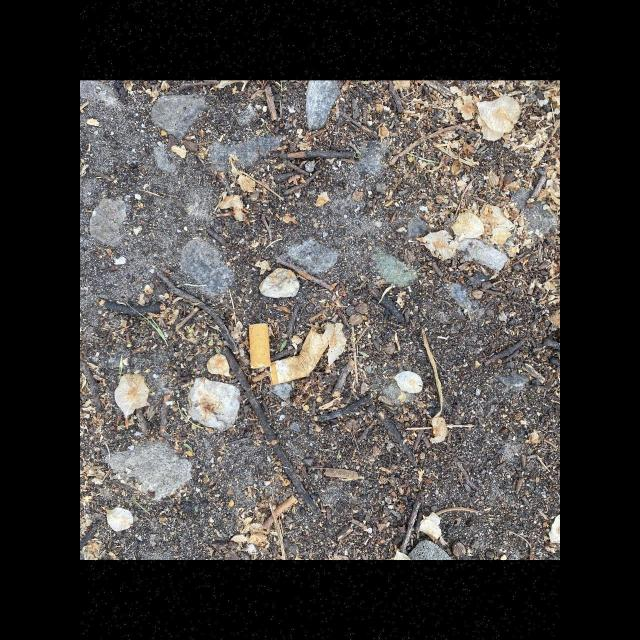cigarette: (248, 322, 348, 386)
